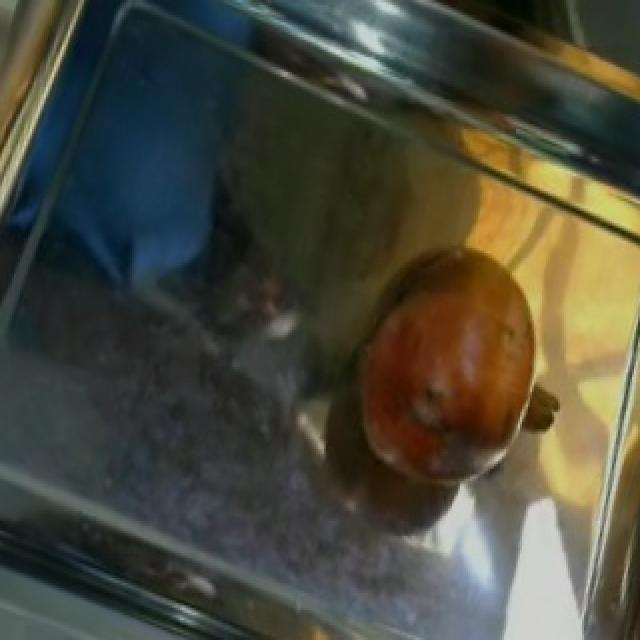fruit: (328, 221, 572, 501)
